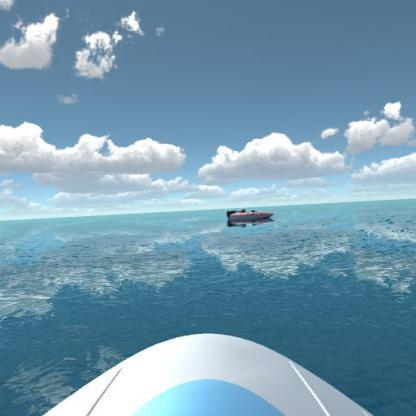usv3: (223, 206, 277, 228)
